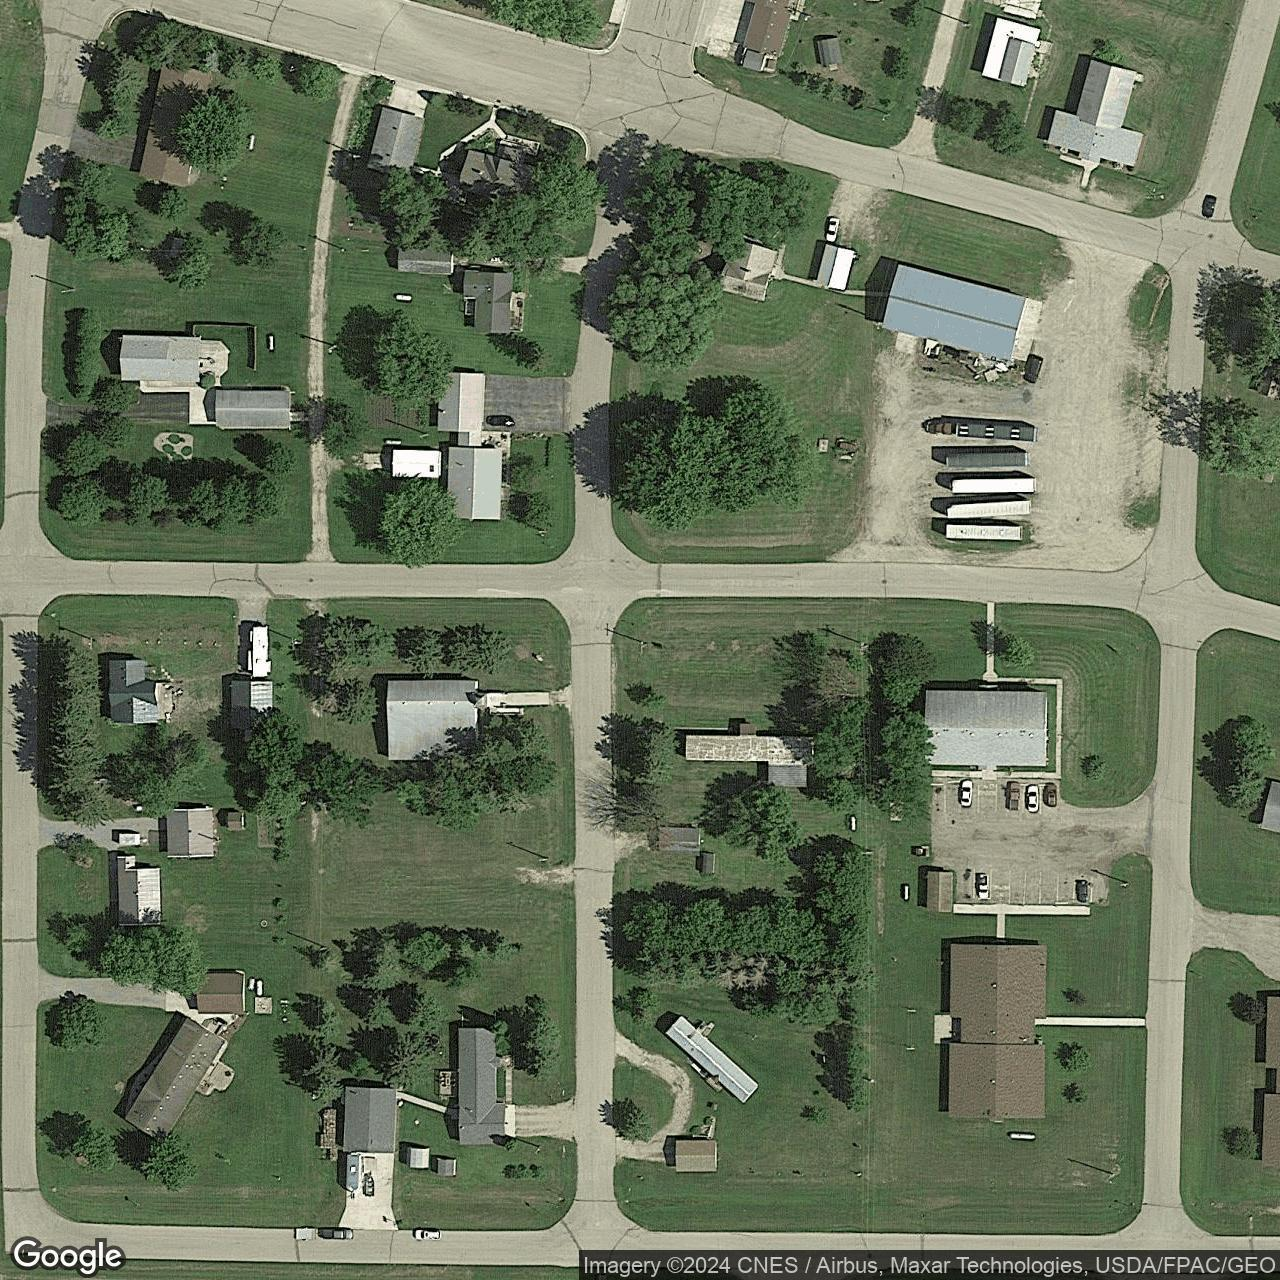Garage: (367, 105, 424, 179), (342, 1087, 397, 1152), (216, 392, 291, 429), (166, 806, 215, 858), (197, 971, 244, 1014), (232, 681, 272, 729), (816, 246, 855, 290), (392, 449, 442, 477), (397, 248, 454, 273), (675, 1141, 717, 1173), (658, 828, 700, 852)
House: (123, 1017, 226, 1143), (1048, 60, 1143, 168), (437, 373, 502, 520), (138, 60, 211, 188), (686, 723, 813, 789), (388, 681, 489, 761), (459, 1027, 506, 1146), (740, 0, 795, 75), (981, 16, 1040, 87), (459, 145, 535, 199), (121, 334, 200, 382), (719, 240, 778, 301), (108, 660, 158, 724), (1261, 996, 1280, 1167), (463, 270, 512, 334), (117, 856, 162, 925), (1260, 781, 1280, 833), (1001, 0, 1043, 20)
Other: (948, 945, 1047, 1118), (883, 265, 1027, 362), (926, 689, 1047, 767)
Propane: (1008, 1131, 1035, 1141), (900, 884, 910, 903), (394, 293, 413, 302), (266, 333, 275, 352), (246, 134, 256, 152), (850, 815, 858, 832), (257, 979, 264, 998), (384, 440, 402, 445)
Trailer: (667, 1016, 758, 1104)
